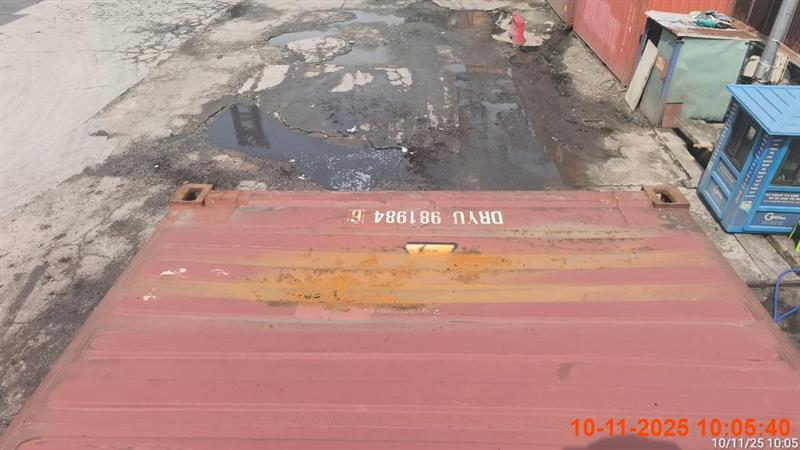broken: (1, 180, 798, 442)
